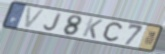7: (124, 23, 145, 47)
8: (63, 15, 83, 37)
C: (102, 22, 123, 43)
J: (43, 13, 64, 32)
K: (81, 17, 104, 40)
V: (23, 6, 47, 30)
